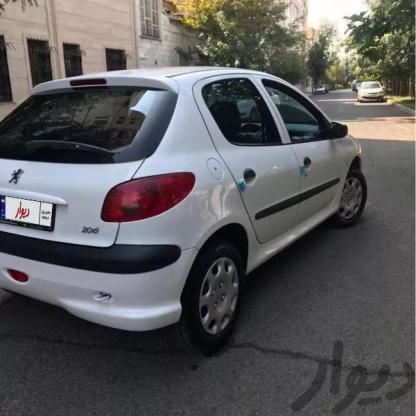Car: (0, 67, 375, 361), (350, 78, 398, 110), (318, 82, 335, 94)
